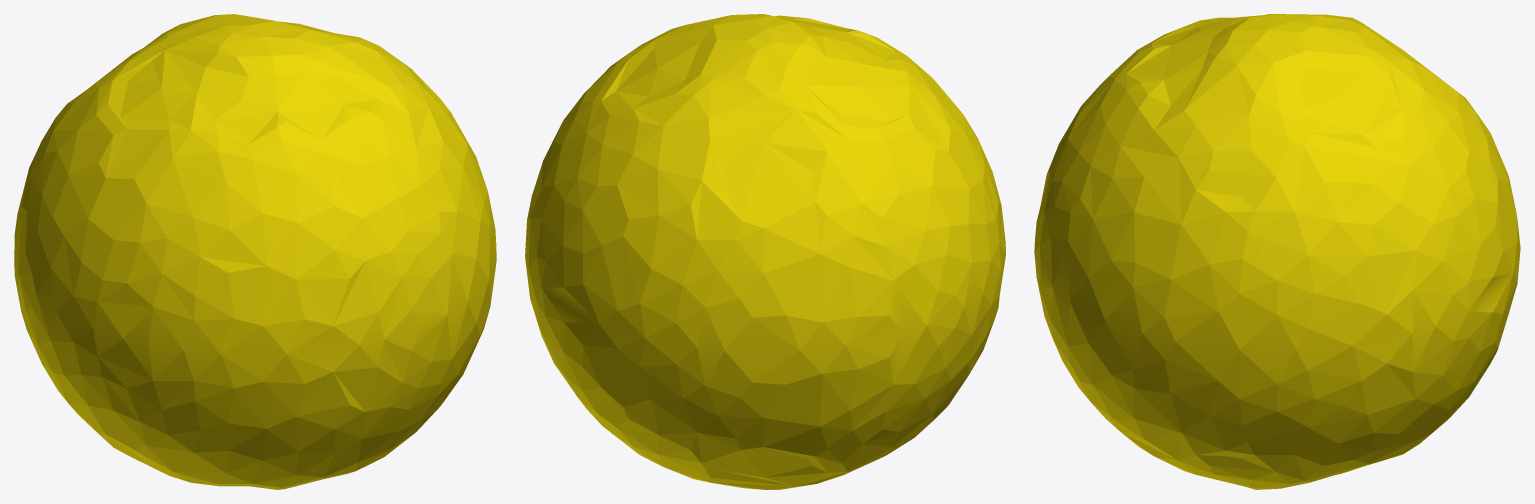
Rendered from lowmoon.glb.
3 views of the same model, side by side, from view 1: azimuth 30°, elevation 25°; view 2: azimuth 150°, elevation 25°; view 3: azimuth 270°, elevation 25° (orthographic).
Visible parts, largest first — view 1: Moon_02; view 2: Moon_02; view 3: Moon_02.
Part boxes in pixels (left/top/right/bottom): Moon_02: left=14, top=14, right=496, bottom=489; Moon_02: left=525, top=14, right=1005, bottom=489; Moon_02: left=1034, top=14, right=1520, bottom=489.
Size of the model in its own units: 19.62 by 19.64 by 19.67.
